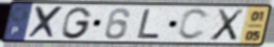6: (103, 6, 132, 41)
C: (176, 7, 211, 42)
G: (60, 6, 94, 40)
L: (136, 8, 163, 40)
X: (26, 5, 66, 40), (208, 8, 246, 43)
